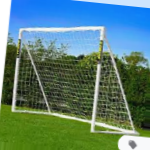goals: (10, 25, 140, 135)
